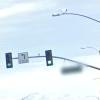traffic lights: (46, 48, 53, 68), (6, 53, 12, 71)
